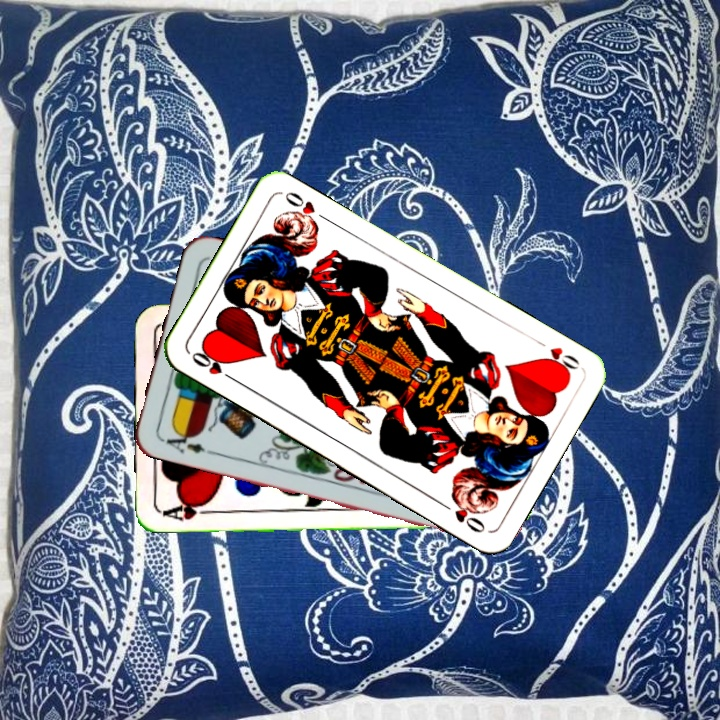EA: (158, 426, 216, 458)
HA: (158, 497, 217, 523)
HO: (530, 334, 582, 378), (187, 347, 240, 385)
